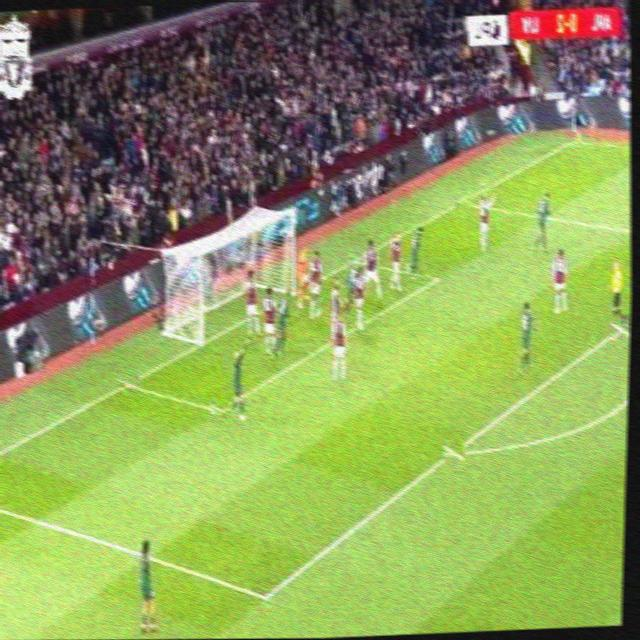bigarea_bottom_inner: (250, 577, 279, 614)
bigarea_top_outter: (454, 191, 470, 209)
bottom_arc_area_intersection: (442, 436, 465, 466)
corner: (565, 131, 587, 148)
smallarea_bottom_inner: (208, 394, 231, 423)
smallarea_bottom_outter: (116, 369, 140, 396)
smallarea_top_inner: (427, 265, 448, 289)
smallarea_top_outter: (345, 251, 361, 269)
top_arc_area_intersection: (609, 312, 631, 339)
